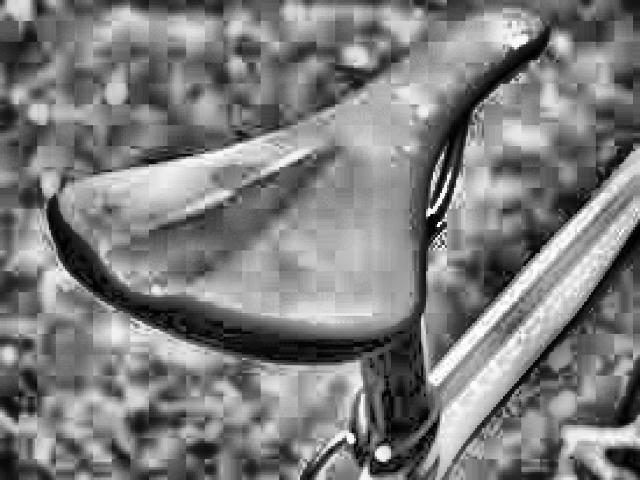saddle: (47, 7, 558, 359)
